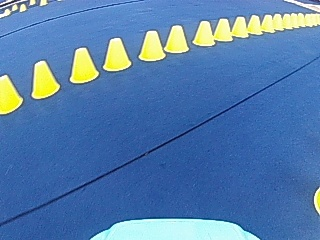cone: (30, 59, 60, 99), (69, 46, 98, 83), (103, 37, 131, 71), (0, 74, 22, 114), (138, 30, 165, 61), (165, 24, 188, 53), (192, 20, 214, 46), (213, 17, 232, 42), (231, 16, 248, 38), (247, 15, 262, 35), (261, 14, 274, 32), (272, 13, 283, 30), (282, 13, 292, 29), (305, 14, 313, 27), (297, 13, 304, 26), (290, 13, 297, 26)
